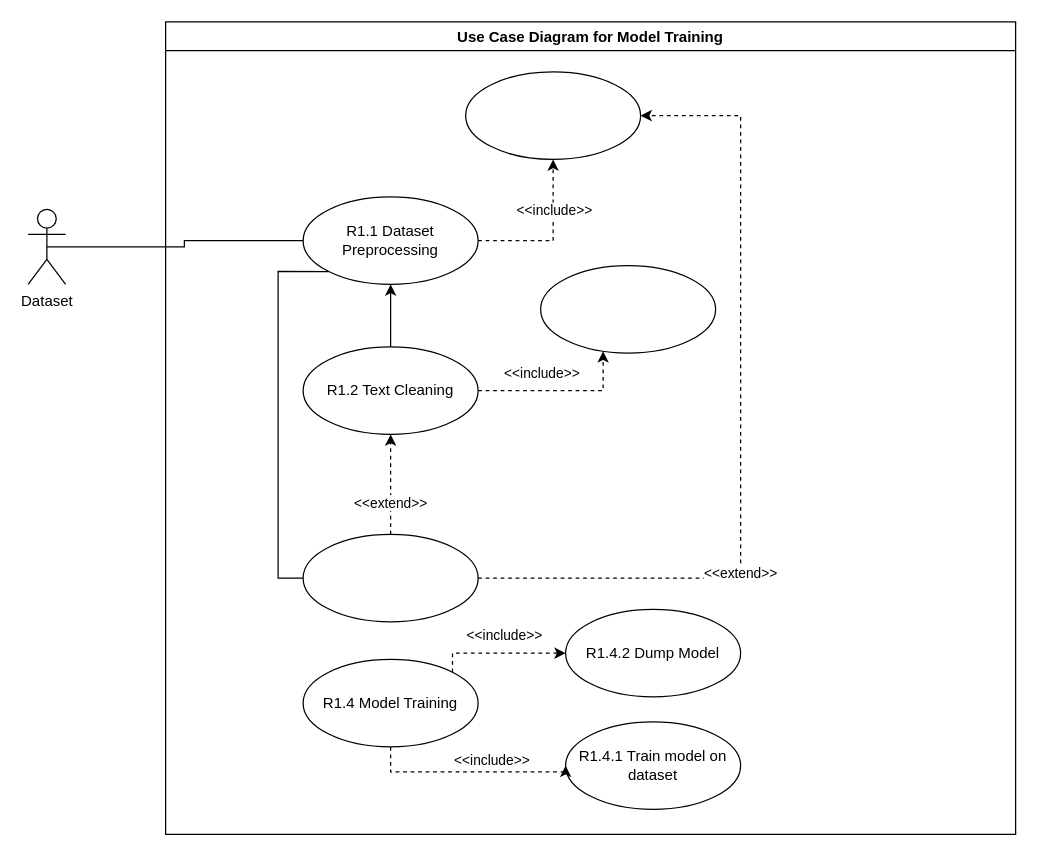
This 1038x856 diagram has some shape labels left out. The shapes that lost their labels are listed below. From the top down, each one's centre as x and y in pixels, then its label:
At (552,115): "R1.1.* Data extraction".
At (627,308): "R1.2.* Remove unnecessary data".
At (390,577): "R1.3 Model Attributes".
